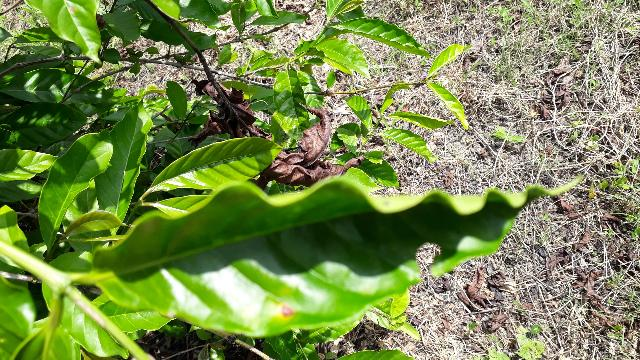rust_level_1: (92, 178, 582, 338)
